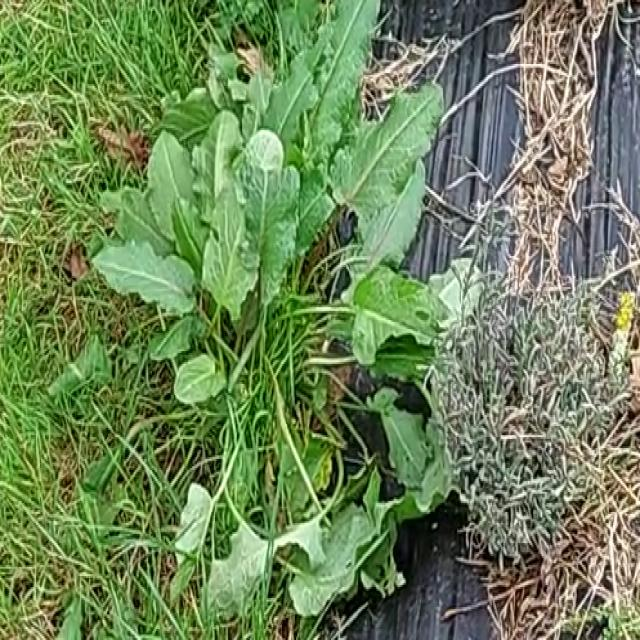organic waste: (92, 0, 457, 636)
